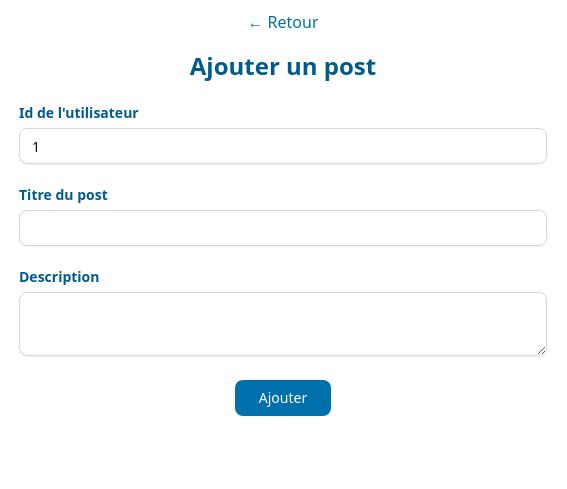
Test case: PostForm › affiche les erreurs de validation si on soumet vide
Click the button "Ajouter" at (283, 398), box [235,380,331,416]
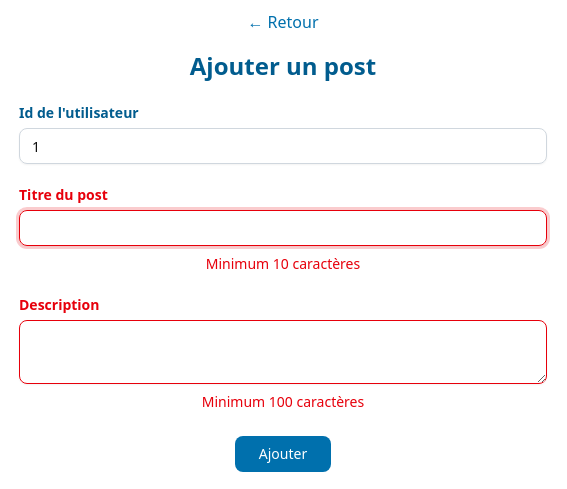
Check: the text "Minimum 10 caractères" is shown, box [206,254,360,273]
Check: the text "Minimum 100 caractères" is shown, box [202,392,364,411]
